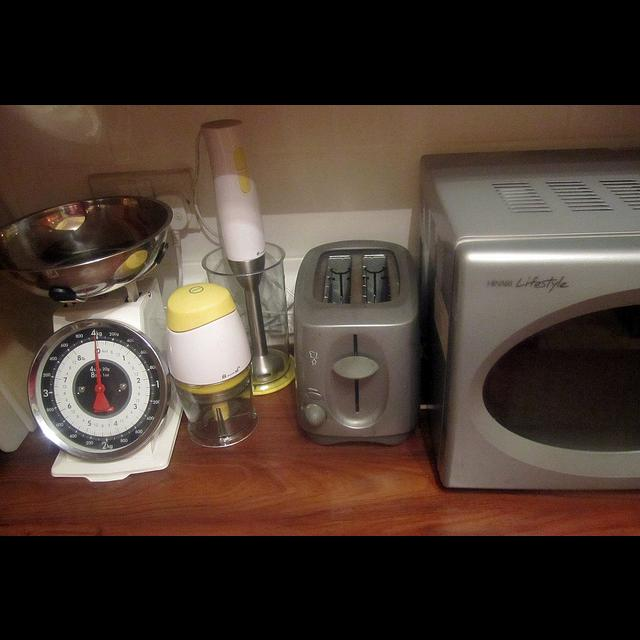Microwave: (423, 149, 640, 490)
